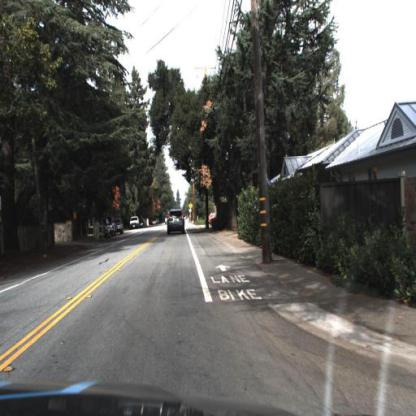car: (165, 206, 186, 236), (96, 217, 110, 240), (127, 212, 141, 233), (115, 215, 125, 236)
